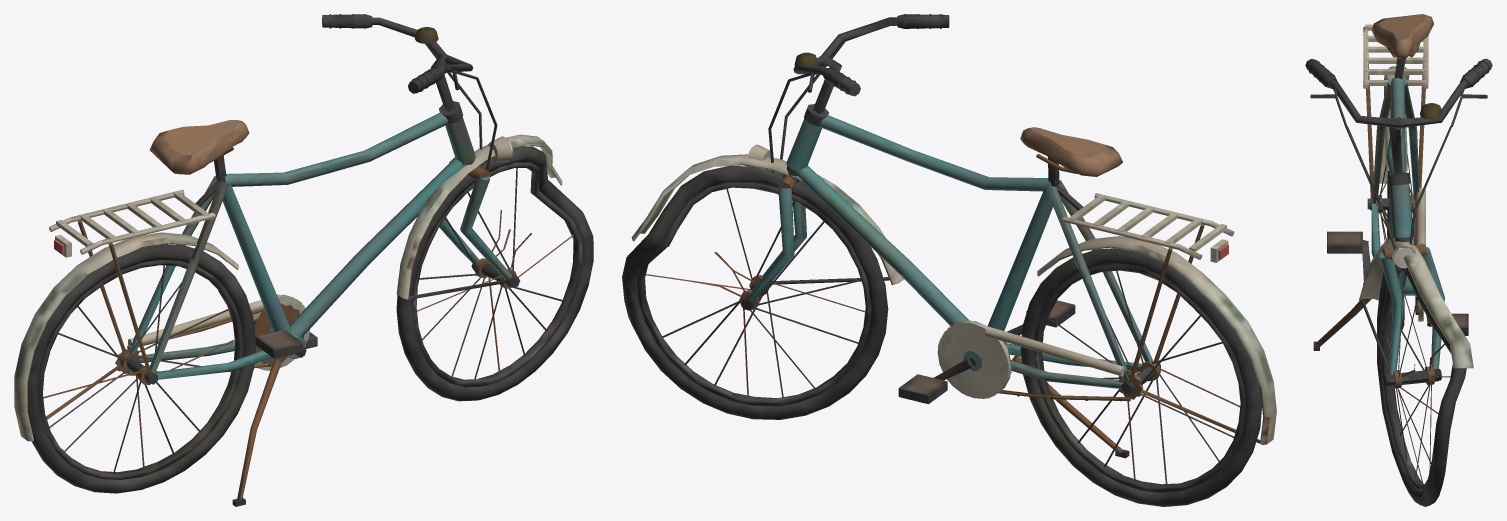
File: JV12_bent_bicycle_v1.glb
3 views of the same model, side by side, from view 1: azimuth 30°, elevation 25°; view 2: azimuth 150°, elevation 25°; view 3: azimuth 270°, elevation 25° (orthographic). The views are drawn at different scales.
Visible parts, largest first — view 1: Bent roadster; view 2: Bent roadster; view 3: Bent roadster.
Boxes of the visible parts, box(x1,y1,x2,y2) form: Bent roadster: box(14, 14, 593, 506); Bent roadster: box(622, 14, 1276, 506); Bent roadster: box(1305, 14, 1492, 506).
Size of the model in its own units: 1.8 by 1.1 by 0.5006.
9 materials, 9 textured.
